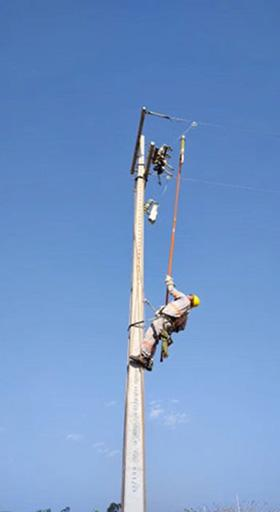Vara_Manobra: (165, 157, 184, 305)
